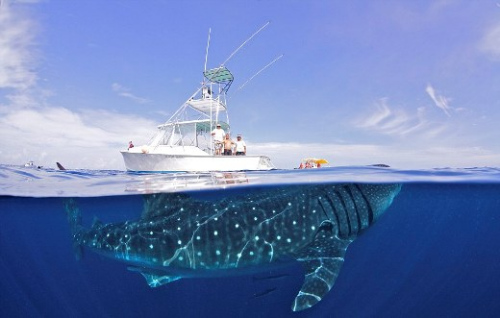shark: (59, 153, 414, 314)
